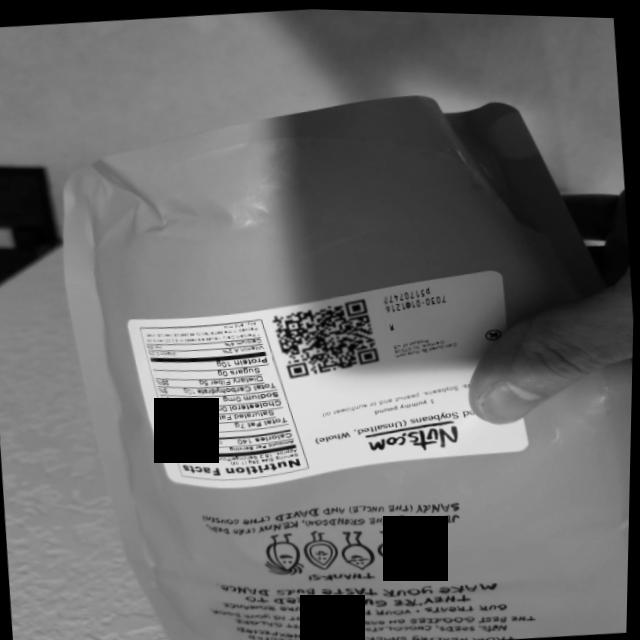QR_CODE: (268, 287, 396, 385)
